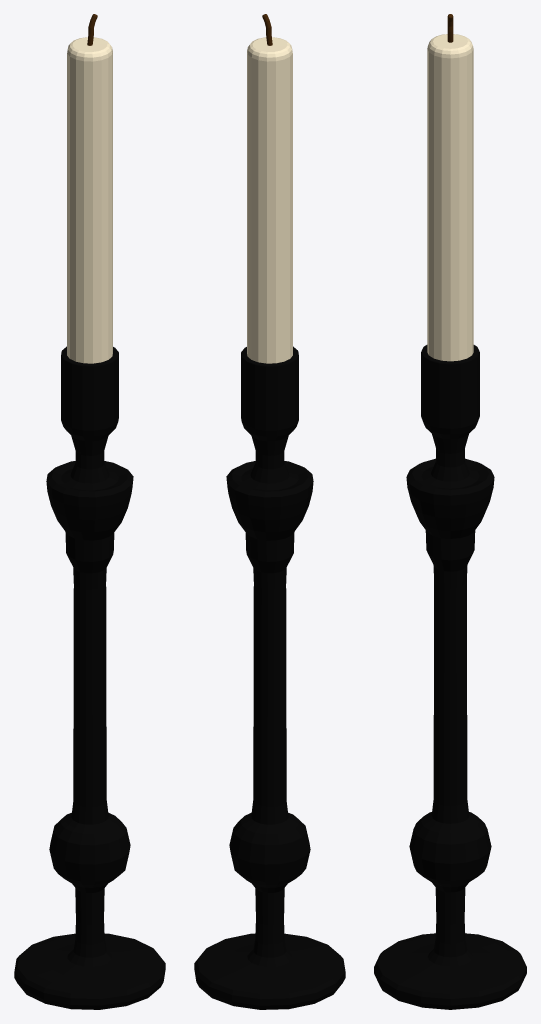
Rendered from candlestick.fbx.
3 renders of one model, left to right at view 1: azimuth 30°, elevation 25°; view 2: azimuth 150°, elevation 25°; view 3: azimuth 270°, elevation 25°, orthographic.
Parts seen in each view (by area): view 1: candlestick; view 2: candlestick; view 3: candlestick.
Part boxes in pixels (<box>): candlestick: <box>14,14,165,1009</box>; candlestick: <box>194,14,345,1009</box>; candlestick: <box>374,14,526,1009</box>.
Bounding box in the file's own units: 4.3 × 30.01 × 4.3.
